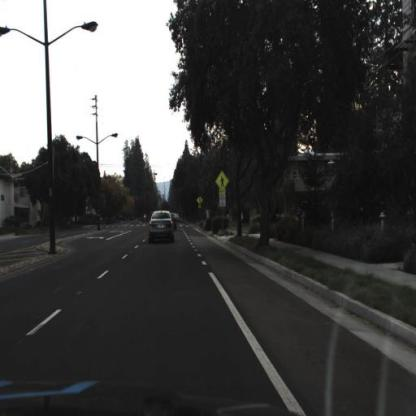car: (147, 209, 177, 246)
